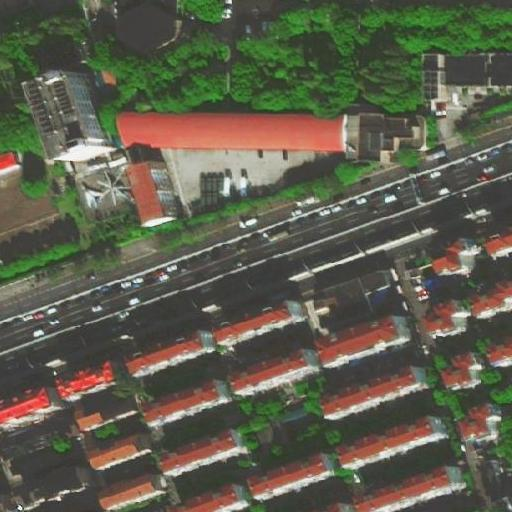building: (120, 112, 344, 156), (24, 65, 115, 162), (340, 415, 451, 472), (324, 363, 430, 417), (320, 269, 407, 331), (354, 464, 464, 511), (321, 315, 412, 369), (129, 329, 219, 382), (162, 426, 250, 477), (233, 347, 321, 397), (147, 376, 234, 425), (252, 453, 336, 502), (223, 301, 307, 348), (257, 391, 331, 443), (1, 416, 86, 461), (348, 114, 424, 162), (13, 466, 93, 511), (130, 158, 181, 227), (57, 359, 123, 406), (0, 385, 64, 432), (444, 51, 511, 91), (101, 474, 169, 511), (166, 482, 252, 511), (439, 349, 492, 395), (82, 393, 141, 434), (92, 432, 154, 470), (467, 275, 511, 321), (458, 403, 505, 445), (430, 239, 478, 277), (478, 444, 512, 497), (424, 301, 471, 339), (420, 54, 446, 103), (480, 225, 511, 261), (484, 337, 511, 370), (0, 139, 28, 166)
